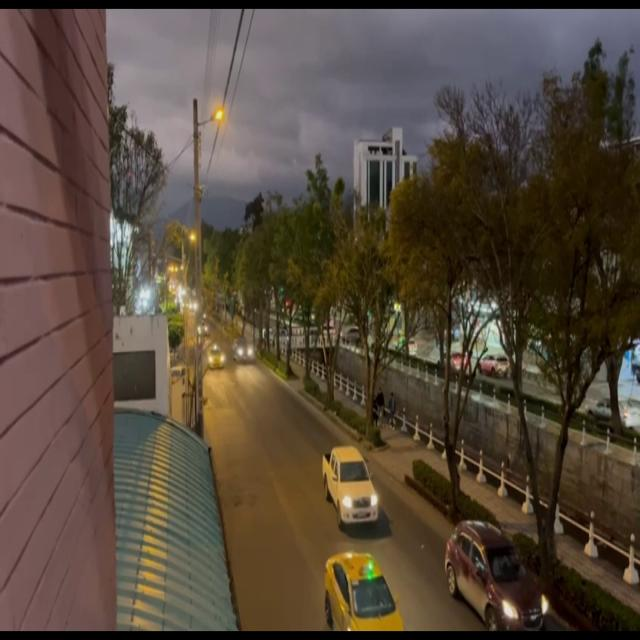CMT: (326, 452, 378, 526)
SED: (326, 556, 404, 640)
SUV: (451, 526, 548, 632)
